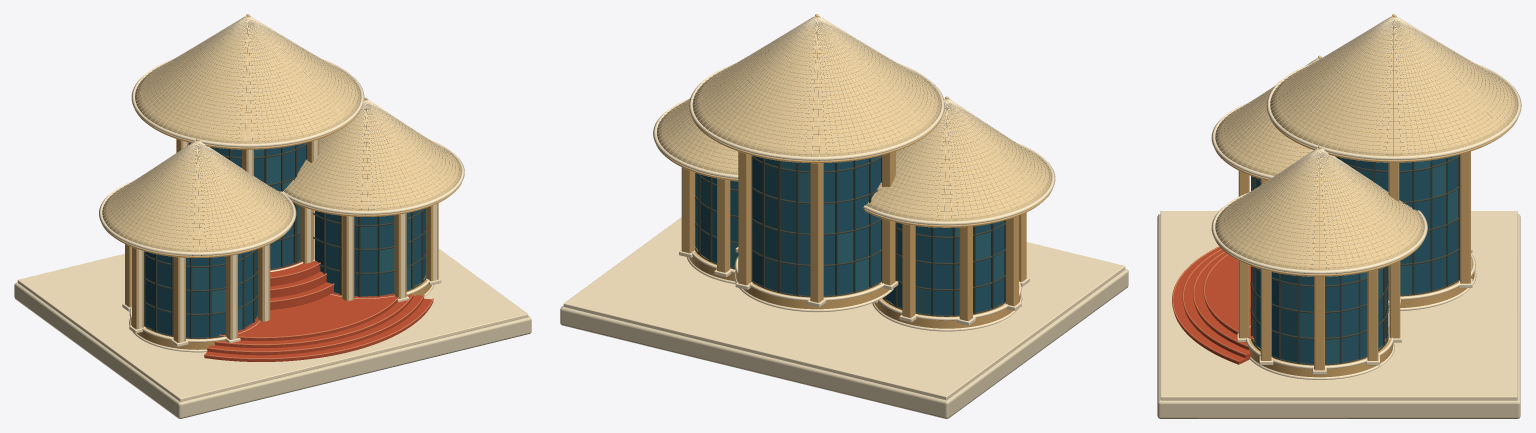
File: bac-lieu.glb
The picture shows the model from 3 angles, left to right: view 1: azimuth 30°, elevation 25°; view 2: azimuth 150°, elevation 25°; view 3: azimuth 270°, elevation 25°; orthographic projection. The views are drawn at different scales.
Parts seen in each view (by area): view 1: NHA_HAT_CAO_VAN_LAU_V2; view 2: NHA_HAT_CAO_VAN_LAU_V2; view 3: NHA_HAT_CAO_VAN_LAU_V2.
Boxes of the visible parts, bbox=[...] form: NHA_HAT_CAO_VAN_LAU_V2: bbox=[14, 14, 531, 418]; NHA_HAT_CAO_VAN_LAU_V2: bbox=[560, 14, 1128, 418]; NHA_HAT_CAO_VAN_LAU_V2: bbox=[1157, 14, 1521, 418].
Bounding box in the file's own units: 1.38 × 1.06 × 1.12.
